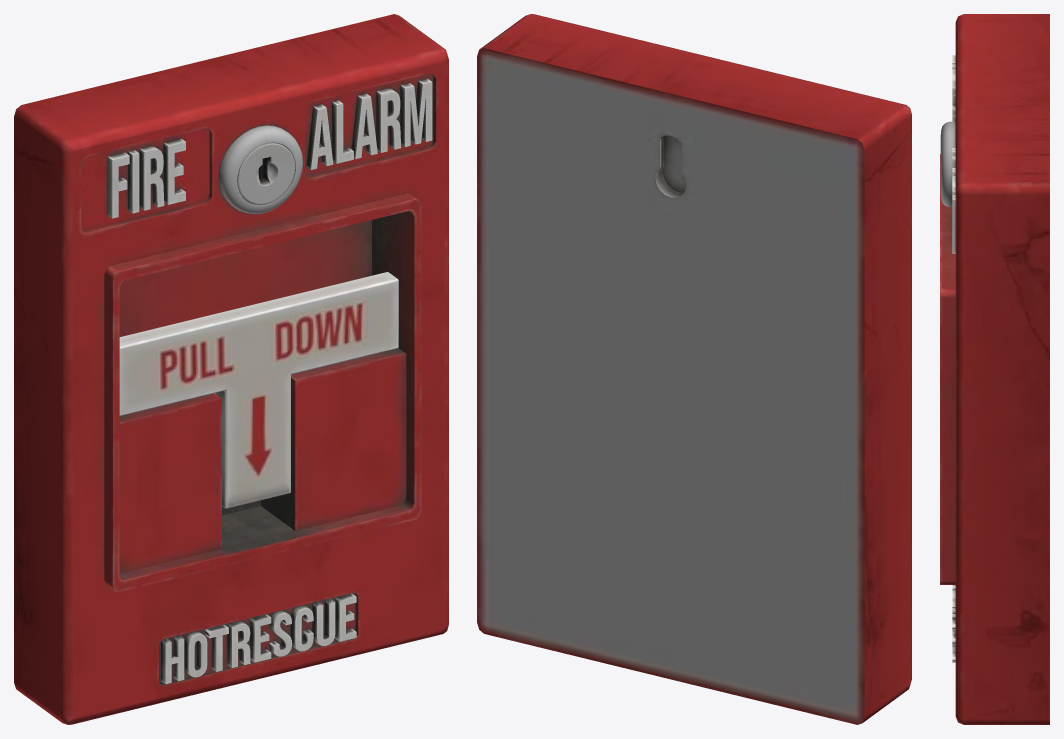
File: fire_alarm.glb
The picture shows the model from 3 angles, left to right: view 1: azimuth 30°, elevation 25°; view 2: azimuth 150°, elevation 25°; view 3: azimuth 270°, elevation 25°; orthographic projection. The views are drawn at different scales.
Parts seen in each view (by area): view 1: fire_alarm; view 2: fire_alarm; view 3: fire_alarm.
Part boxes in pixels (x1,y1,x2,y2): fire_alarm: (14,14,448,724); fire_alarm: (477,14,911,724); fire_alarm: (940,14,1049,724).
Bounding box in the file's own units: 0.0994 × 0.1436 × 0.0264.
Materials: 1 (1 with a texture image).
